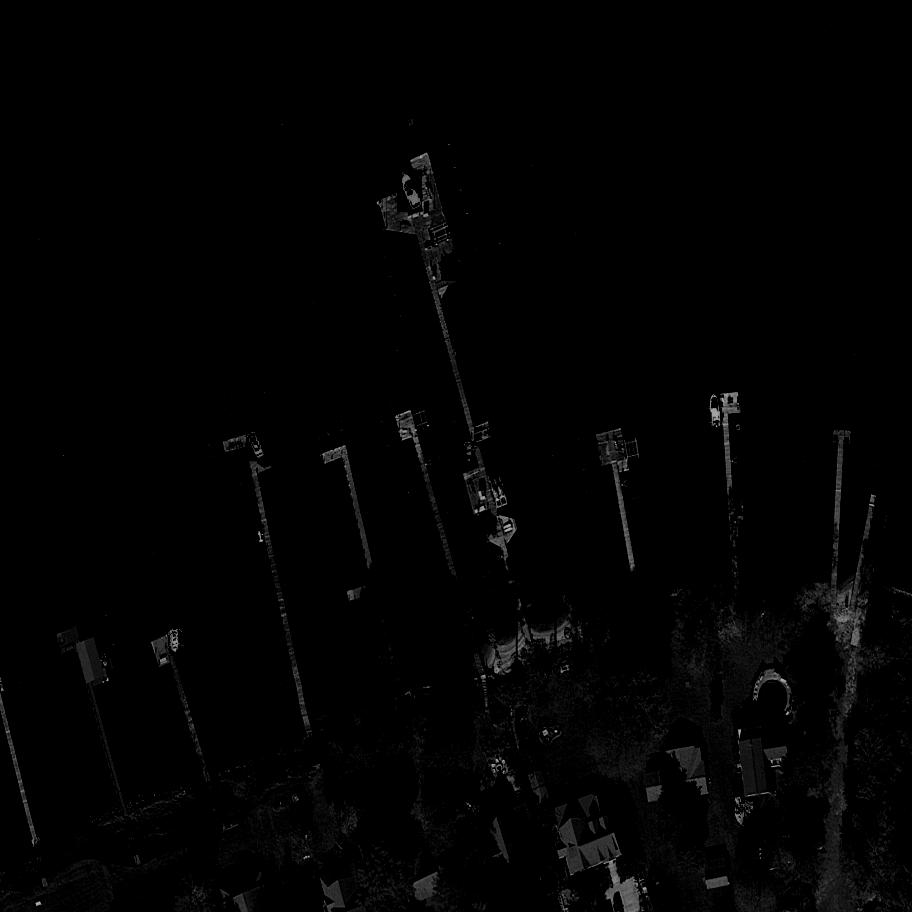ship: (397, 171, 423, 213), (246, 432, 269, 463), (440, 257, 465, 281), (473, 427, 499, 447), (648, 870, 667, 895), (708, 394, 721, 428), (169, 629, 182, 656), (736, 798, 748, 826), (743, 803, 755, 818), (465, 442, 473, 463), (101, 652, 110, 668), (750, 799, 757, 814)
small-vehicle: (794, 730, 815, 745)
